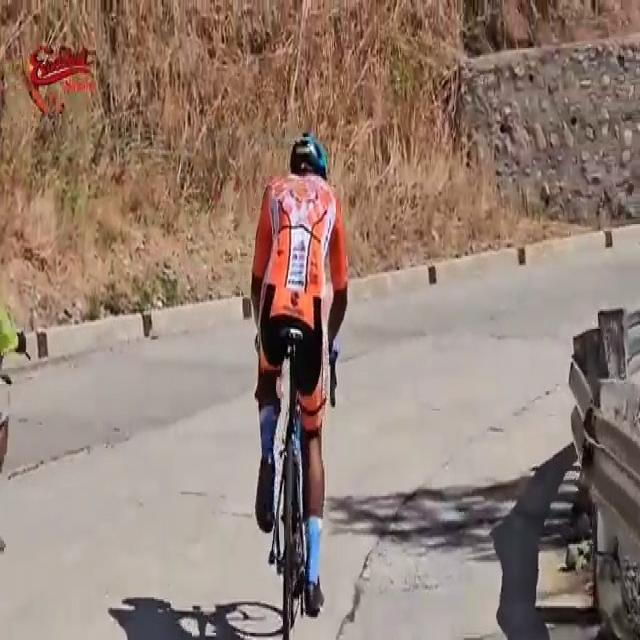bike: (248, 128, 350, 638)
